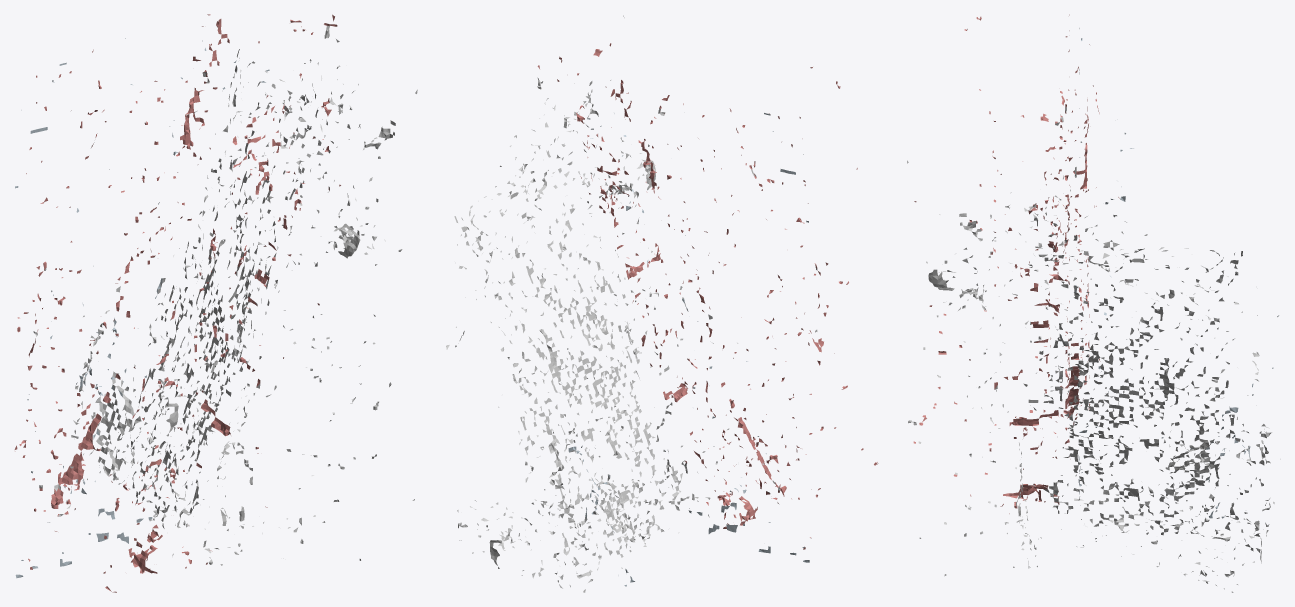
File: B173-뜬면-2__lt_dynnow_ALS_s0__removed.glb
3 renders of one model, left to right at view 1: azimuth 30°, elevation 25°; view 2: azimuth 150°, elevation 25°; view 3: azimuth 270°, elevation 25°, orthographic. The views are drawn at different scales.
Size of the model in its own units: 26.22 by 40.39 by 29.65.
